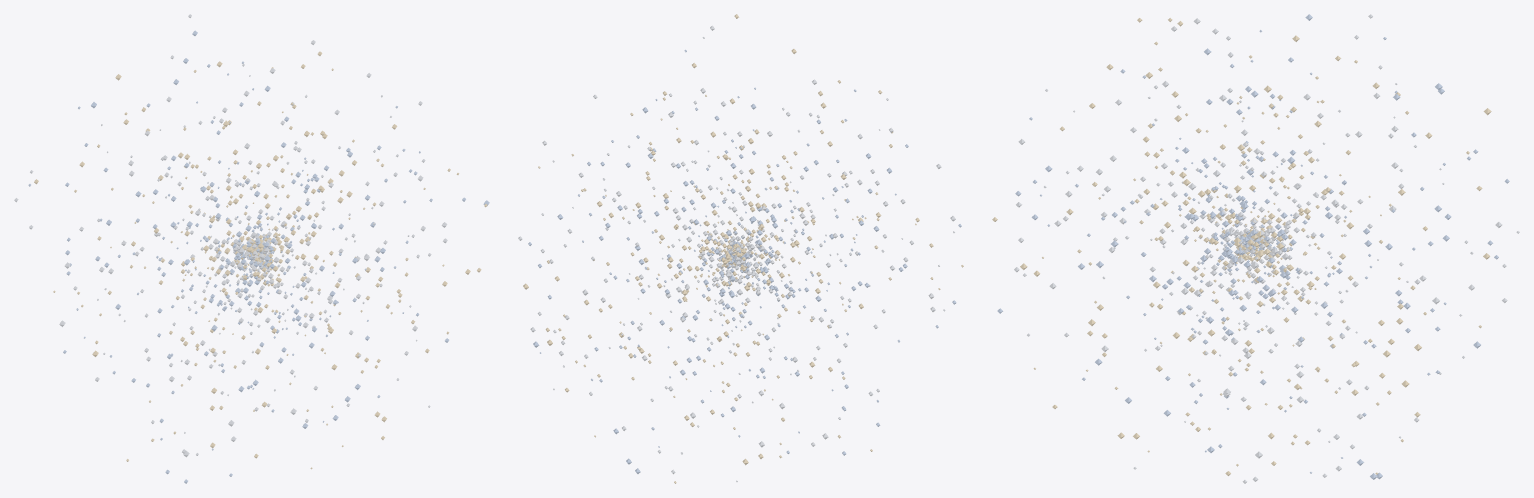
3 views of the same model, side by side, from view 1: azimuth 30°, elevation 25°; view 2: azimuth 150°, elevation 25°; view 3: azimuth 270°, elevation 25° (orthographic). The views are drawn at different scales.
Bounding box in the file's own units: 4.75 × 4.87 × 5.
